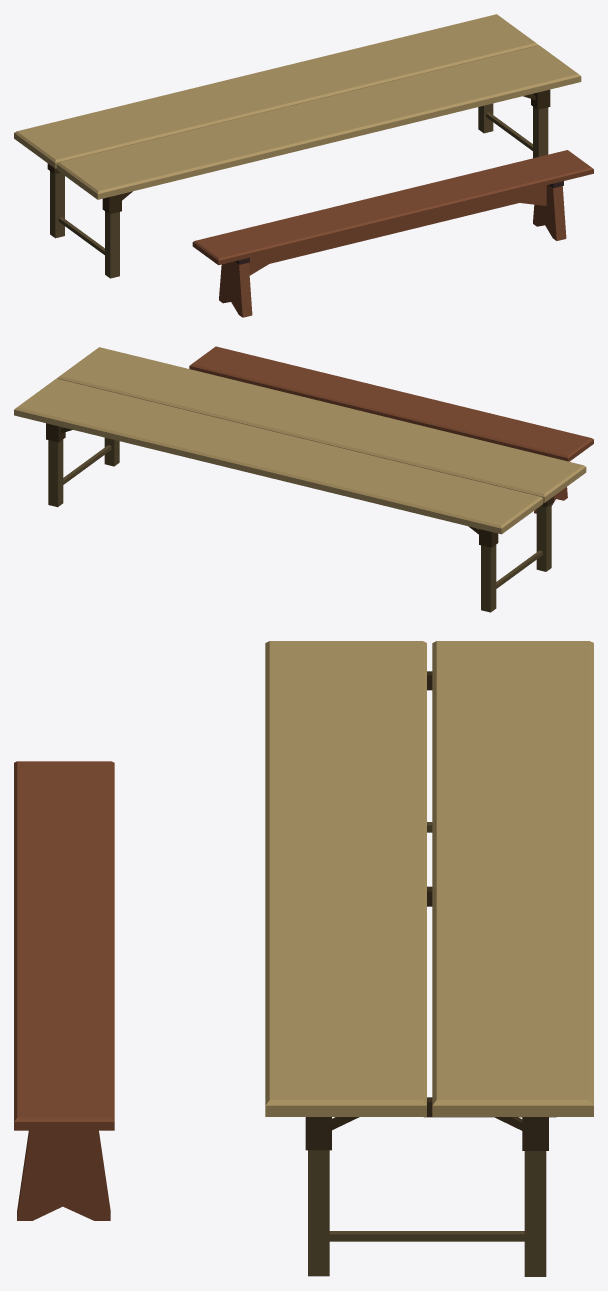
File: table and bench.fbx
The picture shows the model from 3 angles, top to bottom: view 1: azimuth 30°, elevation 25°; view 2: azimuth 150°, elevation 25°; view 3: azimuth 270°, elevation 25°; orthographic projection. The views are drawn at different scales.
Visible parts, largest first — view 1: pCube37, polySurface49, pCube35, pCube36; view 2: pCube37, polySurface49, pCube35, pCube36; view 3: pCube37, polySurface49, pCube35, pCube36.
Part boxes in pixels (box(x1,y1,x2,y2)): pCube37: box(14, 14, 581, 199); polySurface49: box(192, 150, 593, 317); pCube35: box(50, 103, 548, 278); pCube36: box(47, 89, 550, 214); pCube37: box(14, 347, 586, 534); polySurface49: box(189, 346, 593, 513); pCube35: box(48, 437, 551, 612); pCube36: box(46, 423, 553, 547); pCube37: box(265, 641, 593, 1116); polySurface49: box(14, 761, 114, 1220); pCube35: box(308, 822, 546, 1276); pCube36: box(305, 671, 556, 1150).
Bounding box in the file's own units: 17.74 × 3.5 × 9.4.
